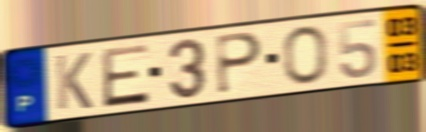3: (166, 37, 208, 101)
5: (336, 16, 379, 80)
E: (99, 41, 151, 110)
K: (53, 50, 95, 113)
O: (281, 24, 331, 86)
P: (214, 30, 265, 97)
